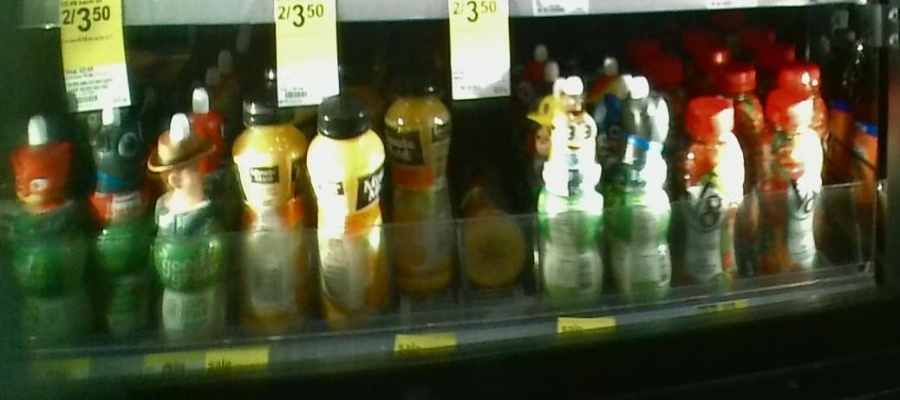bottle: (7, 110, 93, 350), (305, 99, 392, 331), (150, 106, 230, 338), (233, 95, 303, 332), (534, 68, 602, 303), (607, 75, 673, 299), (754, 89, 825, 282), (392, 68, 453, 289), (681, 94, 749, 292), (95, 101, 148, 336), (460, 203, 531, 300)
